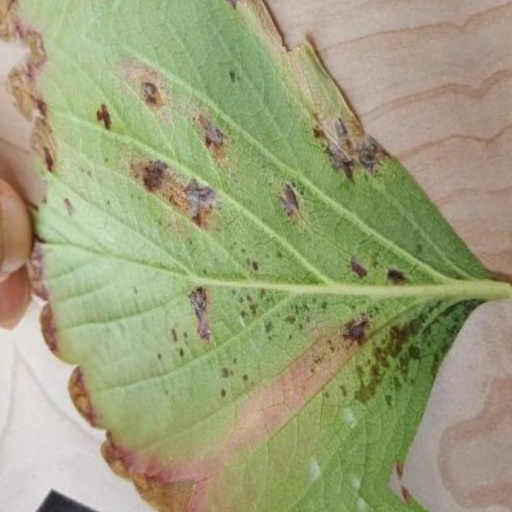Angular Leafspot: (28, 0, 485, 511)
